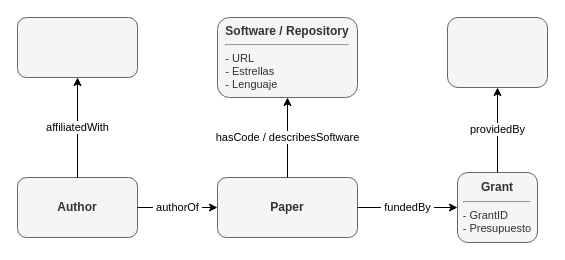
The diagram is 565 pixels wide and 260 high, and some of its shapes have lost their labels. Here are the shapes that lost their labels. From the top down, the centre of each, then its label:
At point (77, 47): "Organization".
At point (497, 52): "Funder - País - Tipo de agencia".
